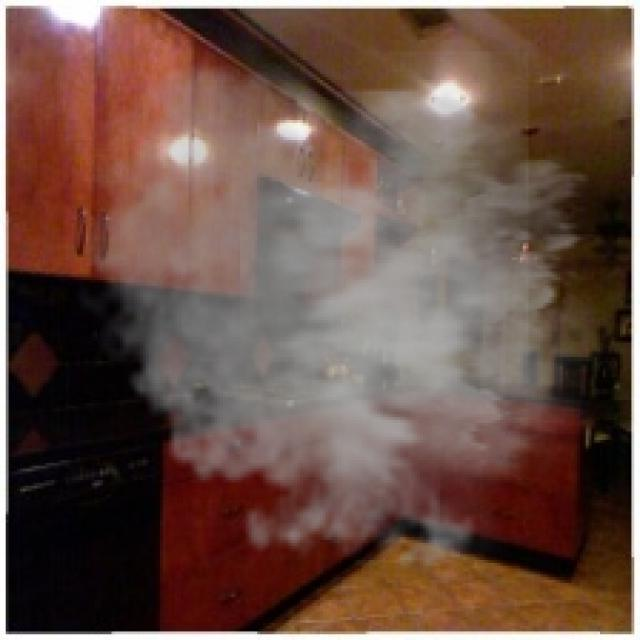Smoke: (65, 51, 626, 588)
